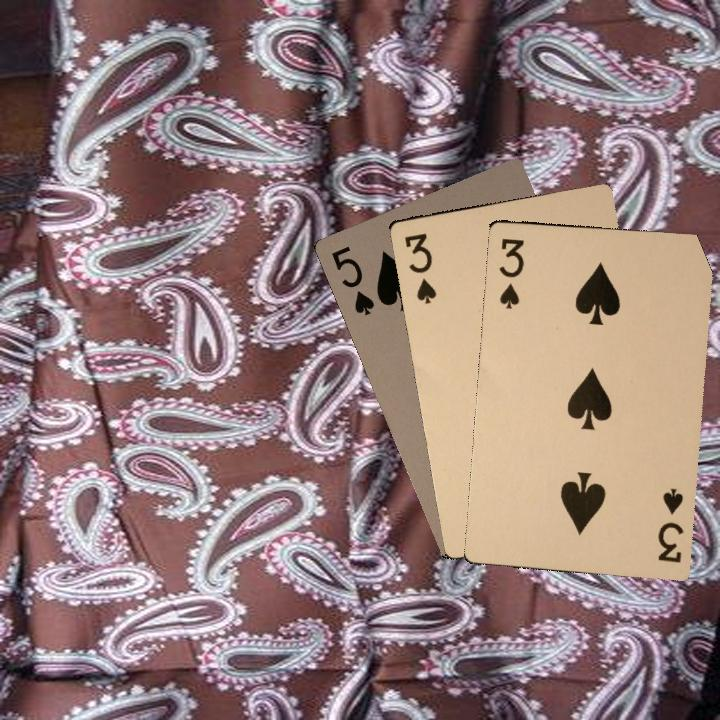3s: (401, 229, 439, 306), (654, 485, 686, 565), (495, 234, 527, 311)
5s: (327, 242, 377, 318)
